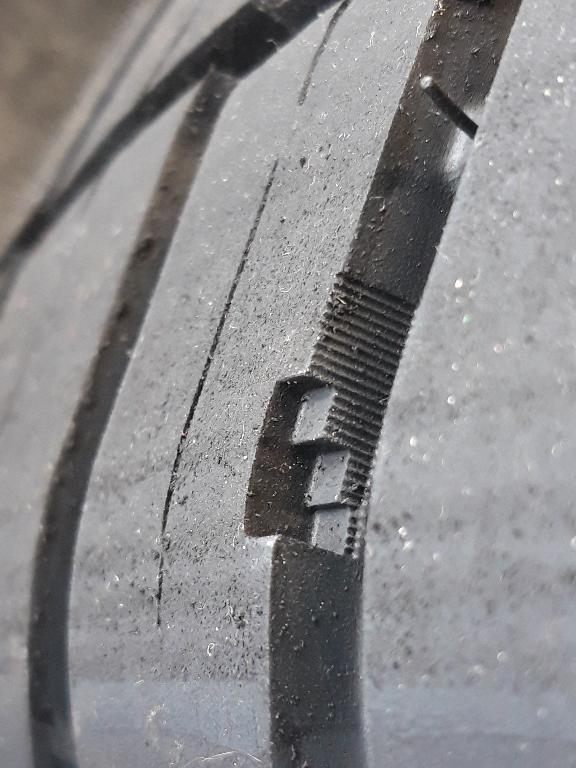temoin:75: (236, 331, 389, 567)
